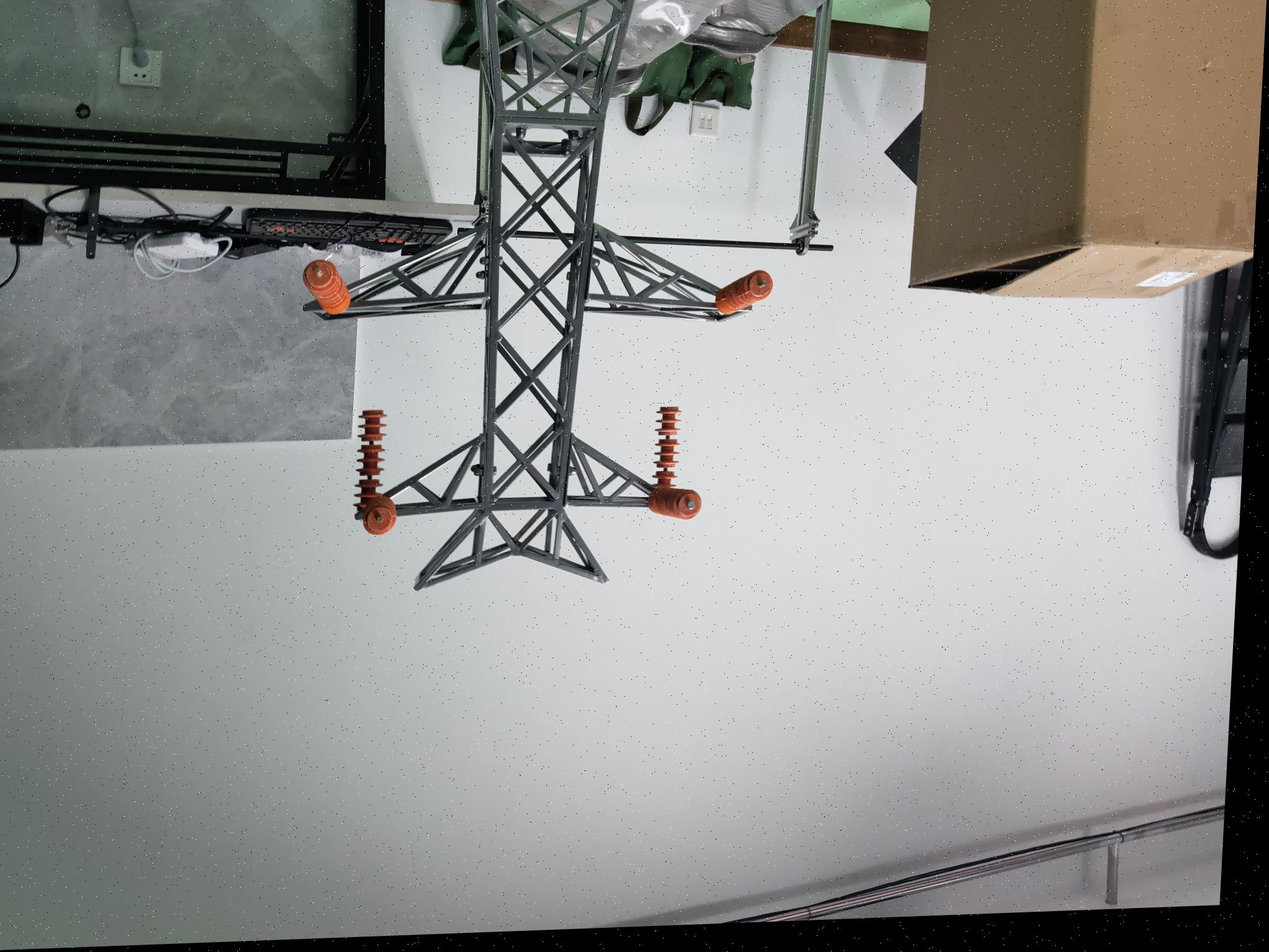tower: (306, 0, 762, 594)
